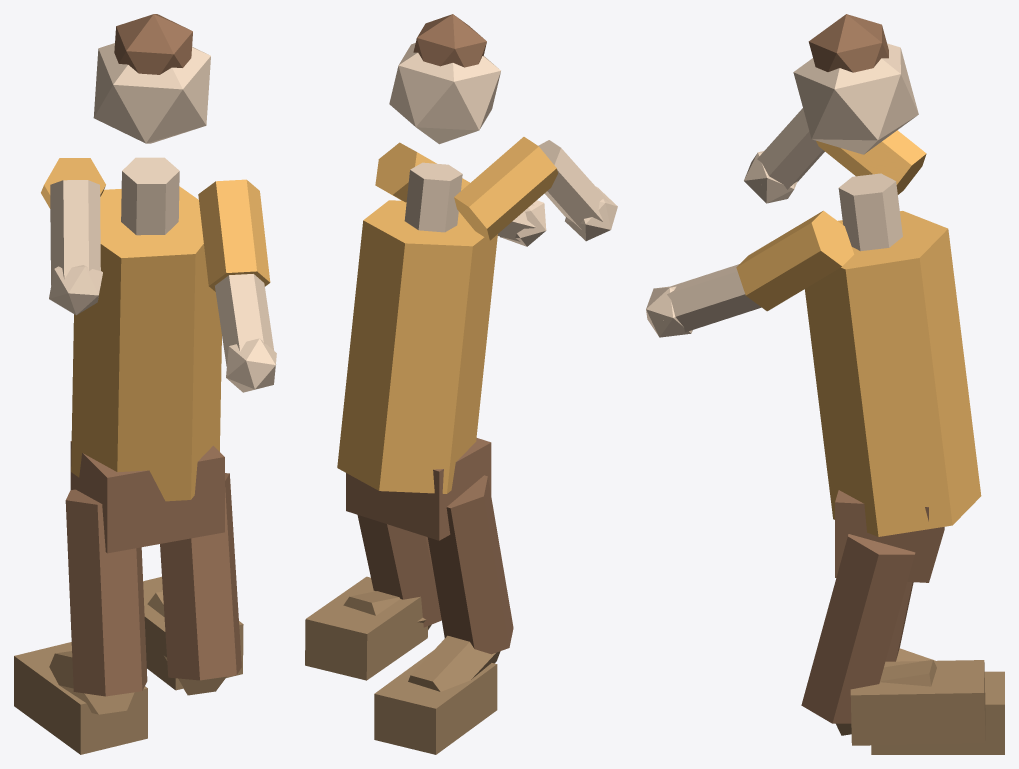
The model's file is pose_attack_1_14.glb.
The picture shows the model from 3 angles, left to right: view 1: azimuth 30°, elevation 25°; view 2: azimuth 150°, elevation 25°; view 3: azimuth 270°, elevation 25°; orthographic projection. The views are drawn at different scales.
Visible parts, largest first — view 1: pose; view 2: pose; view 3: pose.
Boxes of the visible parts, x1,y1,x2,y2 form: pose: (14,14,276,754); pose: (305,14,617,754); pose: (646,14,1004,754).
Size of the model in its own units: 0.4829 by 1.46 by 0.6445.
